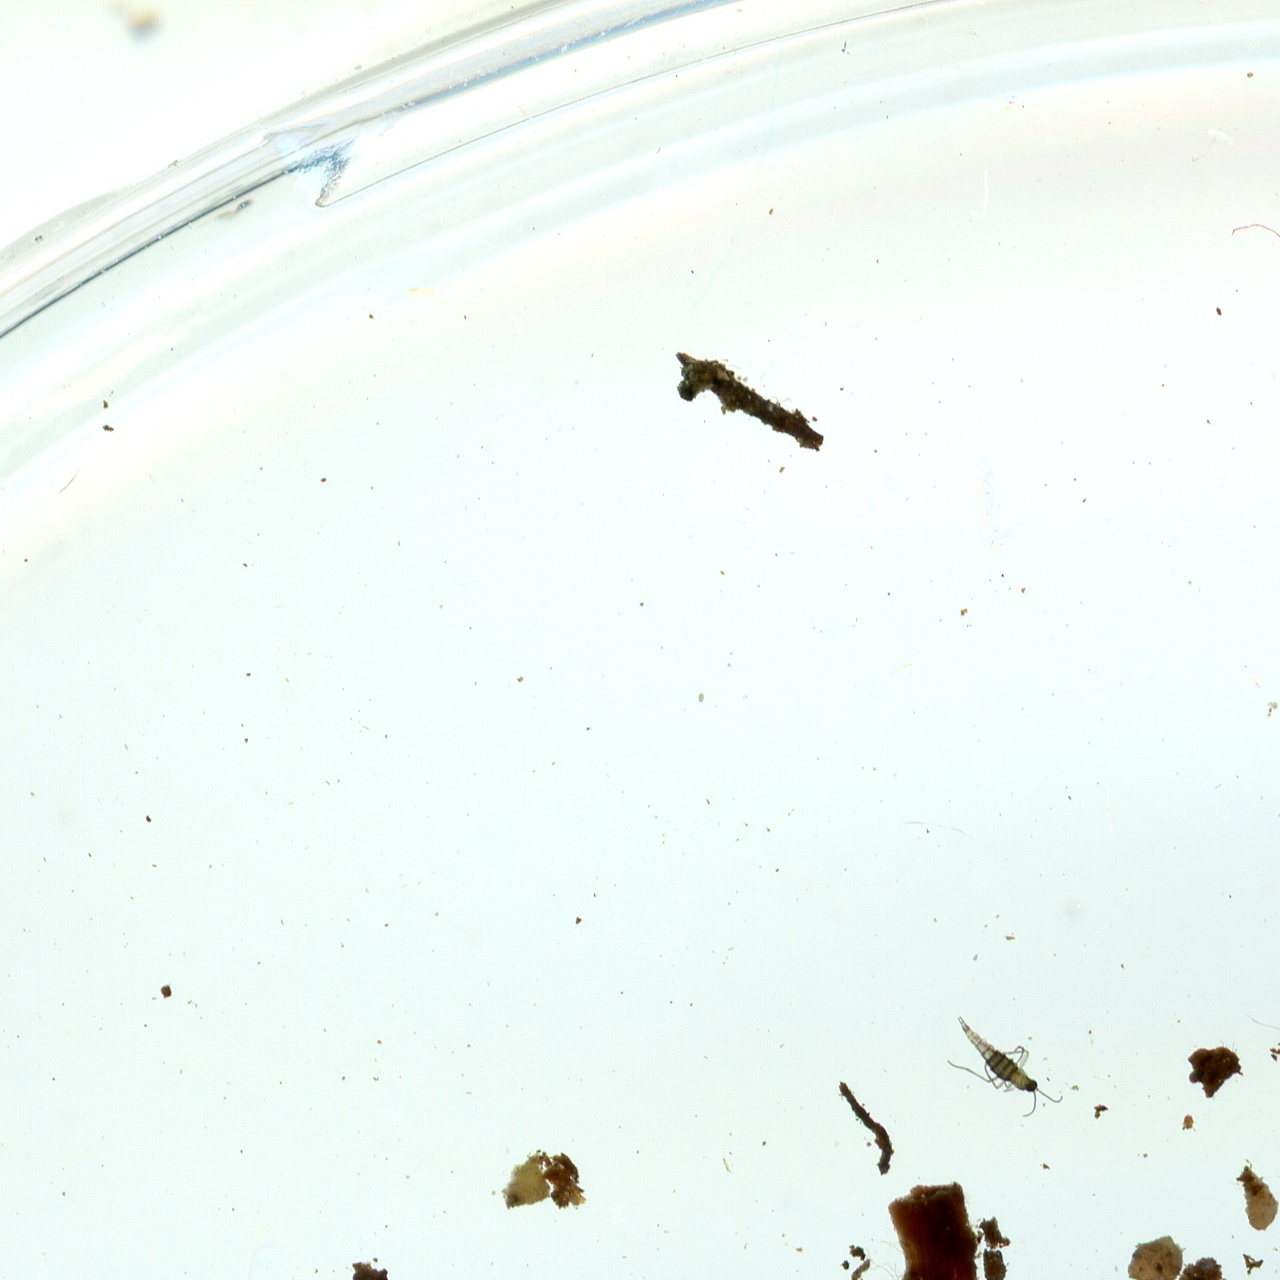arthropod: (925, 993, 1071, 1144)
